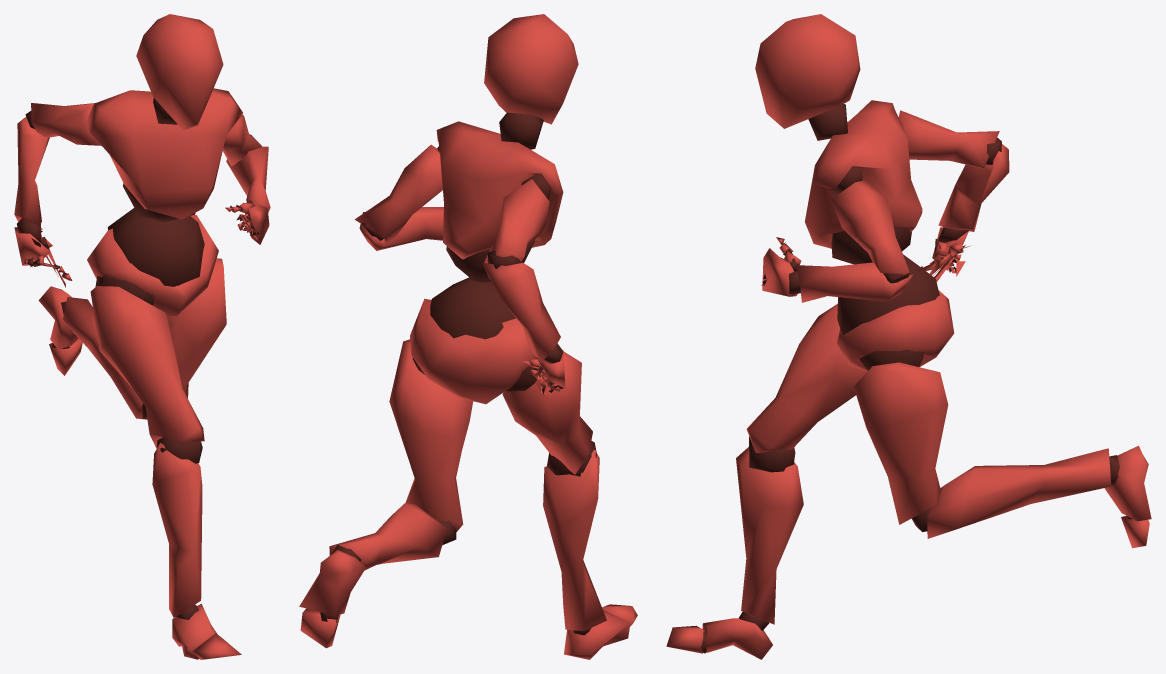
The picture shows the model from 3 angles, left to right: view 1: azimuth 30°, elevation 25°; view 2: azimuth 150°, elevation 25°; view 3: azimuth 270°, elevation 25°; orthographic projection. The views are drawn at different scales.
Visible parts, largest first — view 1: Beta_Surface.001; view 2: Beta_Surface.001; view 3: Beta_Surface.001.
Boxes of the visible parts, box(x1,y1,x2,y2) form: Beta_Surface.001: box(14, 14, 270, 659); Beta_Surface.001: box(299, 14, 637, 659); Beta_Surface.001: box(666, 14, 1151, 659).
Bounding box in the file's own units: 5.51 × 14.52 × 9.83.
